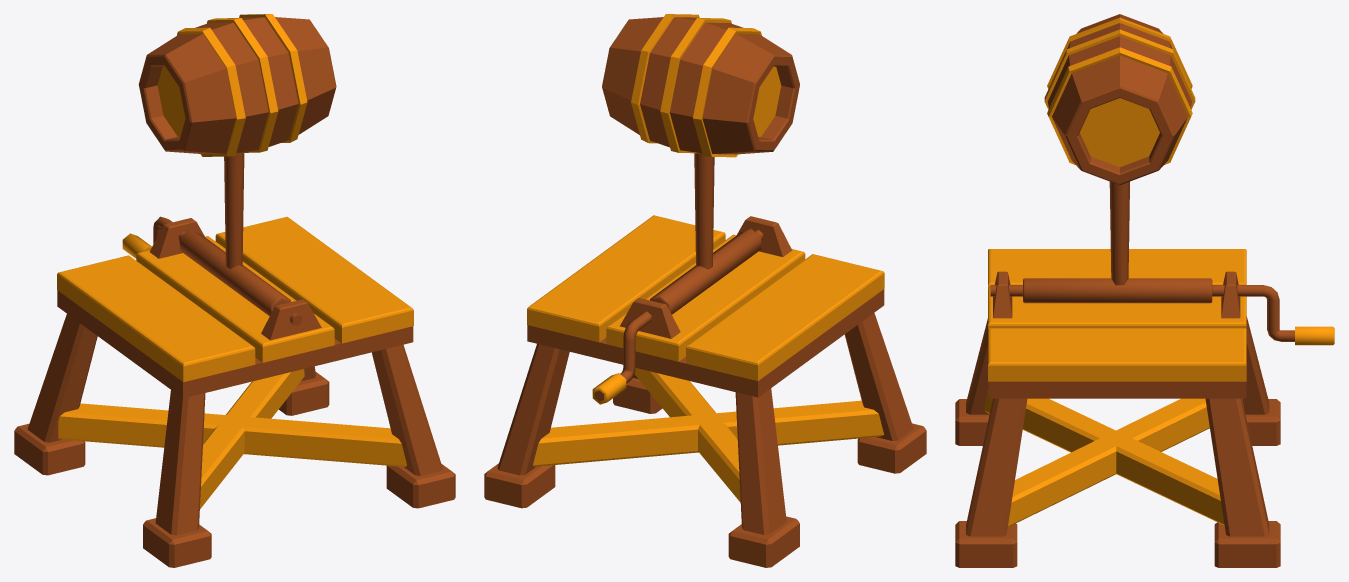
The model's file is island1-hammer1.fbx.
3 renders of one model, left to right at view 1: azimuth 30°, elevation 25°; view 2: azimuth 150°, elevation 25°; view 3: azimuth 270°, elevation 25°, orthographic. The views are drawn at different scales.
Parts seen in each view (by area): view 1: hammer.001, hammer02.001, hammer01.001; view 2: hammer.001, hammer02.001, hammer01.001; view 3: hammer.001, hammer02.001, hammer01.001.
Boxes of the visible parts, <box> form: hammer.001: <box>14,216,455,567</box>; hammer02.001: <box>138,14,336,326</box>; hammer01.001: <box>122,216,185,258</box>; hammer.001: <box>484,215,926,567</box>; hammer02.001: <box>602,14,799,314</box>; hammer01.001: <box>592,311,651,404</box>; hammer.001: <box>955,249,1280,567</box>; hammer02.001: <box>990,14,1212,303</box>; hammer01.001: <box>1212,285,1334,345</box>.
Size of the model in its own units: 2.62 by 3.98 by 2.93.
